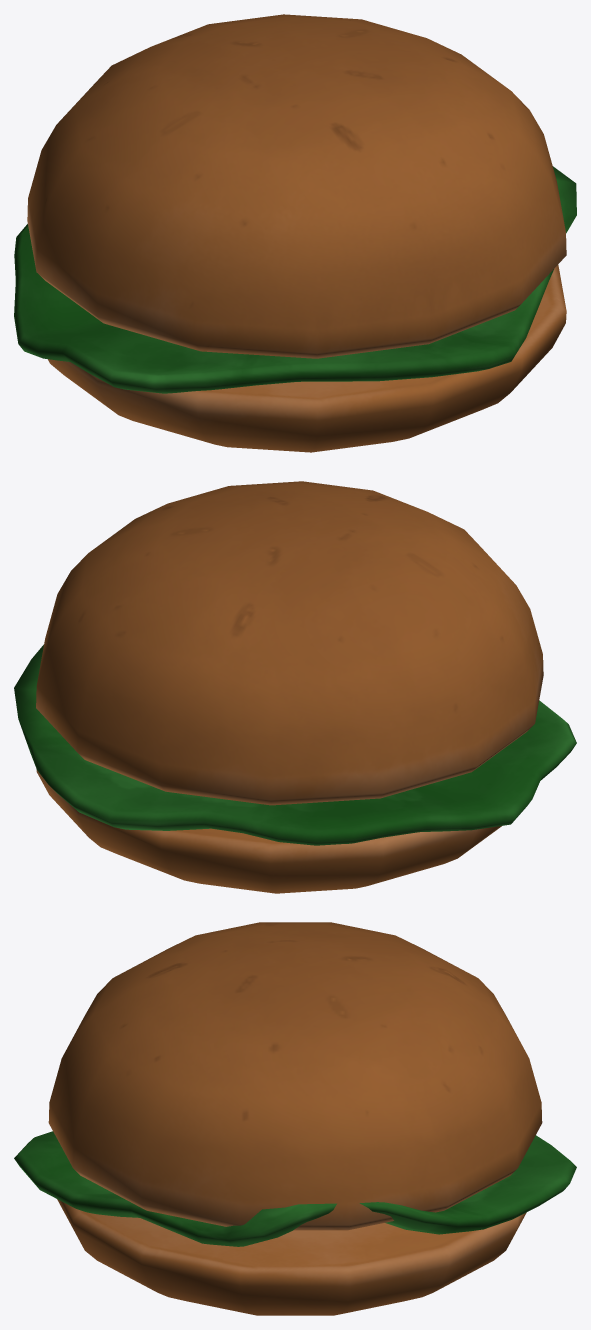
Rendered from MSH_Hamburguesa_P_L.fbx.
3 renders of one model, top to bottom at view 1: azimuth 30°, elevation 25°; view 2: azimuth 150°, elevation 25°; view 3: azimuth 270°, elevation 25°, orthographic. The views are drawn at different scales.
Visible parts, largest first — view 1: MSH_Hamburguesa_P_L; view 2: MSH_Hamburguesa_P_L; view 3: MSH_Hamburguesa_P_L.
Part boxes in pixels (<box>): MSH_Hamburguesa_P_L: <box>14,14,576,452</box>; MSH_Hamburguesa_P_L: <box>14,481,576,893</box>; MSH_Hamburguesa_P_L: <box>14,922,576,1315</box>.
Size of the model in its own units: 10.53 by 10.93 by 6.13.
Materials: 1 (1 with a texture image).
